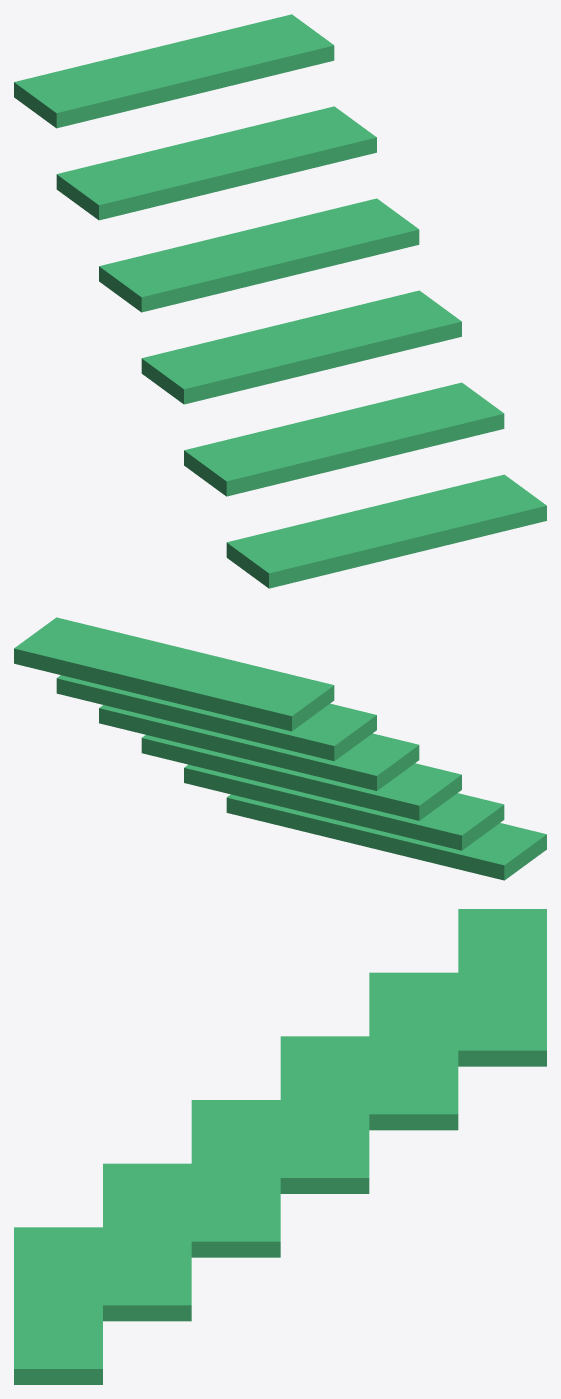
File: Stairs_067.glb
The picture shows the model from 3 angles, top to bottom: view 1: azimuth 30°, elevation 25°; view 2: azimuth 150°, elevation 25°; view 3: azimuth 270°, elevation 25°; orthographic projection. The views are drawn at different scales.
Parts seen in each view (by area): view 1: Stairs_067; view 2: Stairs_067; view 3: Stairs_067.
Boxes of the visible parts, x1,y1,x2,y2 form: Stairs_067: (14,14,546,588); Stairs_067: (14,617,546,880); Stairs_067: (14,909,546,1384).
Size of the model in its own units: 1.6 by 1.76 by 2.54.
Materials: 1 (1 with a texture image).
